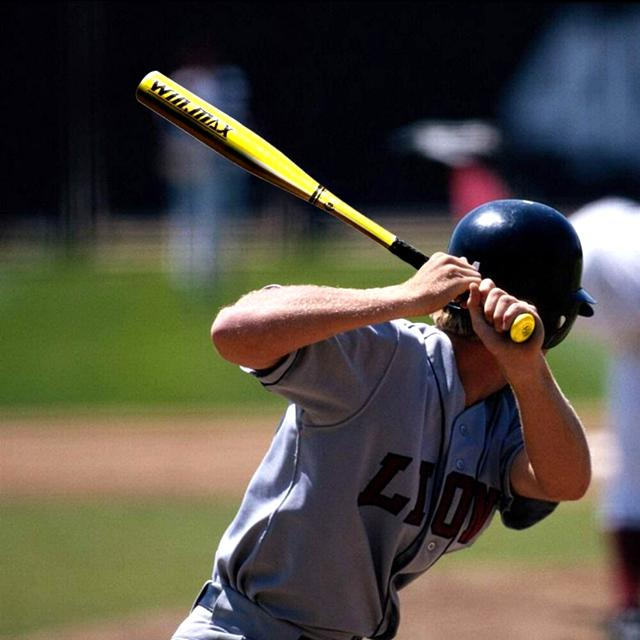baseball bat: (134, 62, 534, 344)
